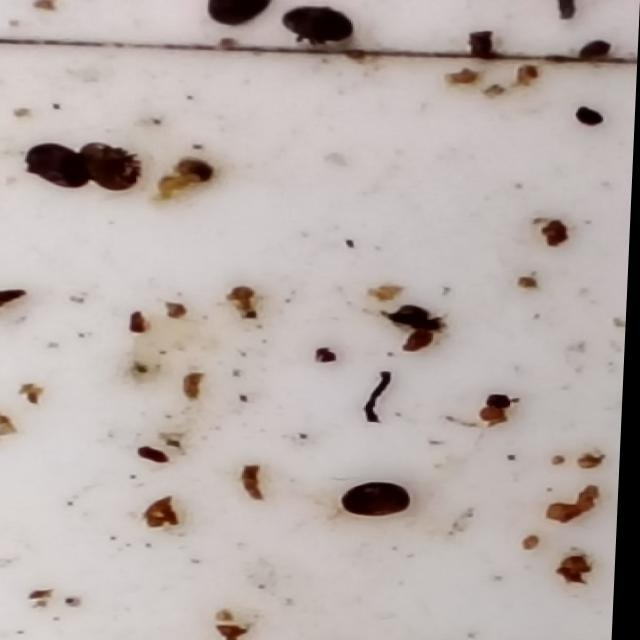varroa: (82, 141, 145, 197), (281, 6, 358, 46), (341, 483, 419, 521), (25, 144, 87, 190), (203, 1, 281, 28), (574, 41, 616, 67), (574, 107, 609, 130)
